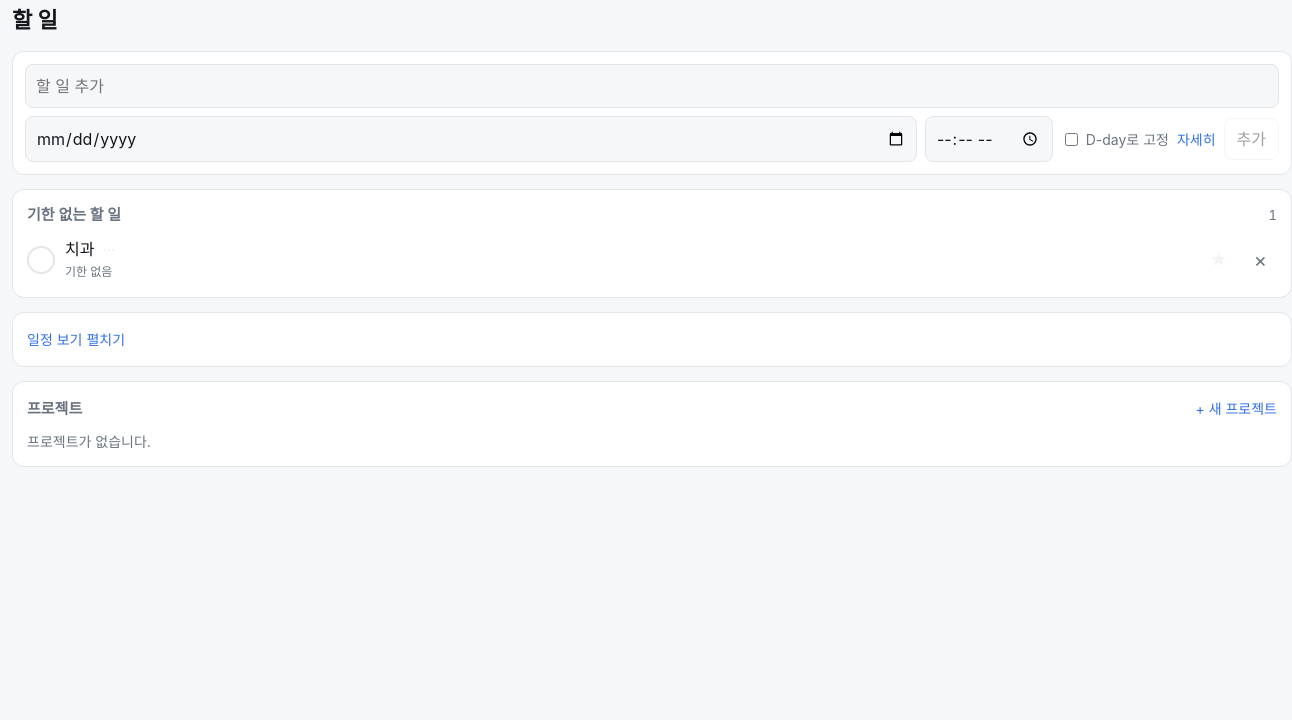
it: 할 일 삭제 되돌리기 › 되돌리기를 누르면 그 할 일이 살아난다
Click the button named "치과 삭제" at (1260,260), box [1244,242,1277,278]
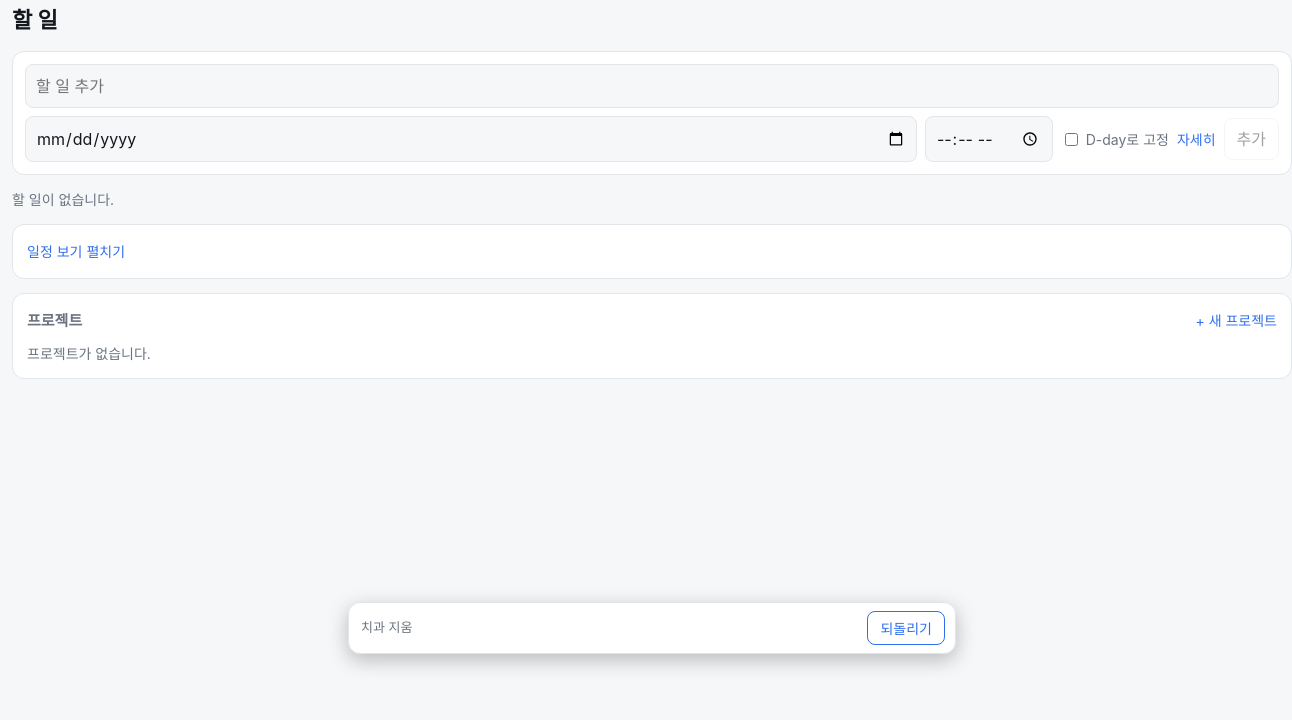
Click the button "되돌리기" at (906,628), box [868,611,945,645]
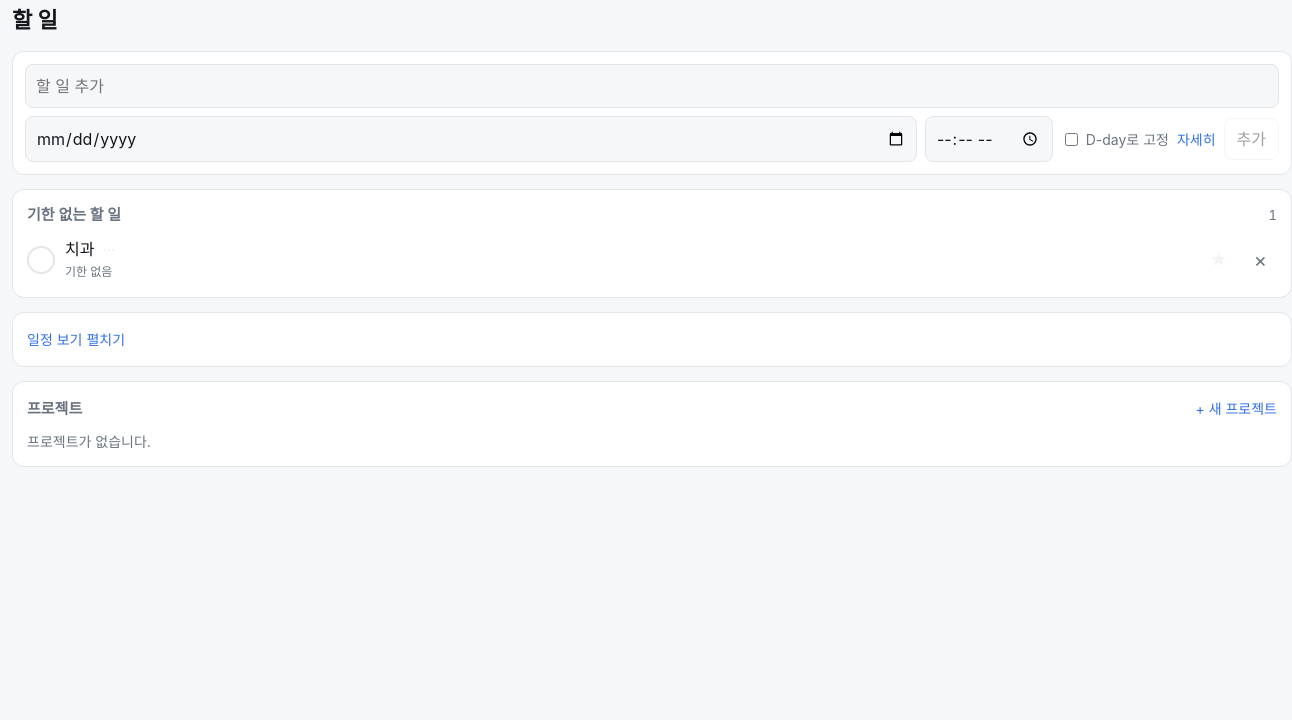
Expected: the text "치과" is shown, [65,236,94,260]
Now the button "되돌리기" is gone
